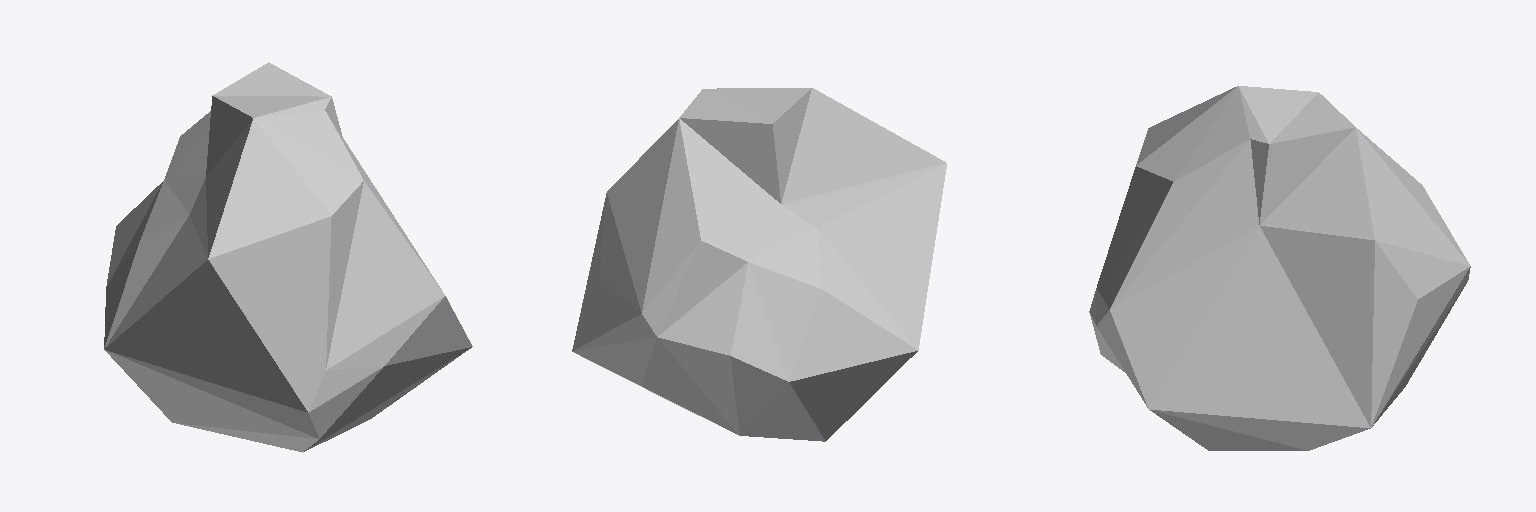
The model's file is rock3.obj.
3 views of the same model, side by side, from view 1: azimuth 30°, elevation 25°; view 2: azimuth 150°, elevation 25°; view 3: azimuth 270°, elevation 25° (orthographic).
Parts seen in each view (by area): view 1: Icosphere.001; view 2: Icosphere.001; view 3: Icosphere.001.
Part boxes in pixels (bbox=[...]): Icosphere.001: bbox=[104, 62, 472, 452]; Icosphere.001: bbox=[572, 88, 946, 441]; Icosphere.001: bbox=[1089, 86, 1470, 450].
Size of the model in its own units: 3.35 by 3.36 by 3.66.